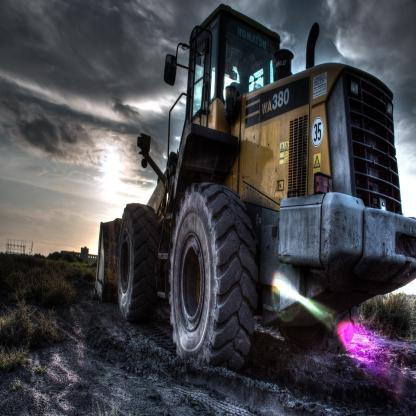bull_dozer/loader/grader: (86, 13, 416, 378)
